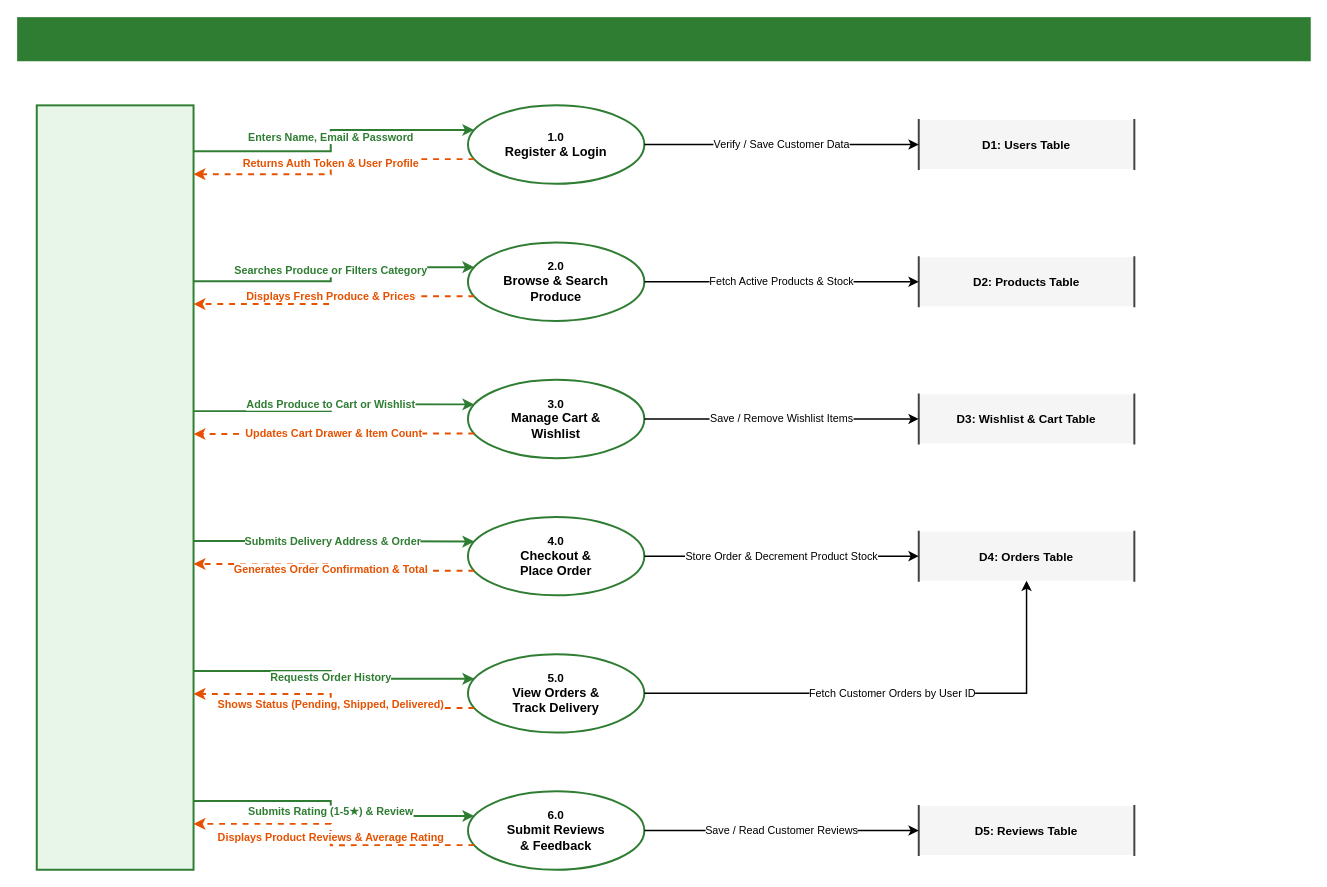
This 1327x887 diagram has some shape labels left out. The shapes that lost their labels are listed below. From the top down, each one's centre as x and y in pixels, then its label:
(x=663, y=39): FreshField — Customer Data Flow Diagram (DFD)
(x=114, y=487): CUSTOMER (Buyer / End User)
